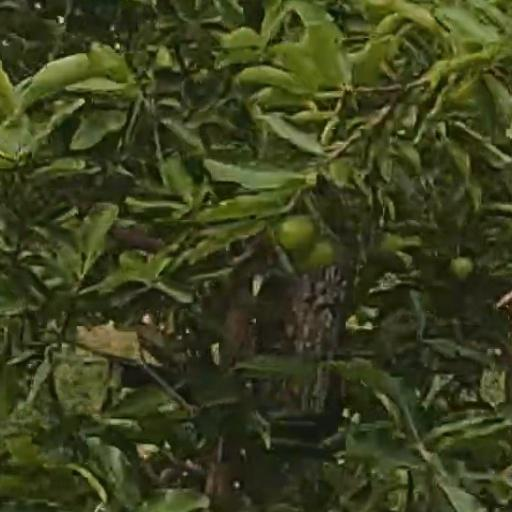acerola: (279, 217, 311, 249), (297, 246, 333, 268)
